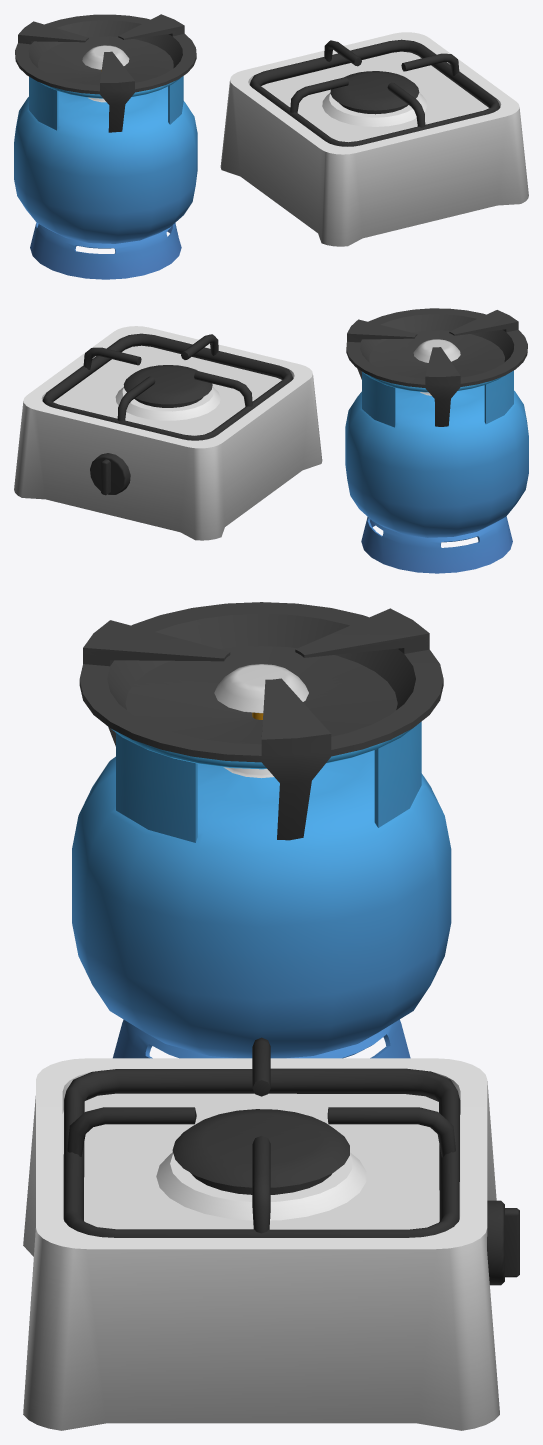
The model's file is stove.fbx.
3 views of the same model, one above another, from view 1: azimuth 30°, elevation 25°; view 2: azimuth 150°, elevation 25°; view 3: azimuth 270°, elevation 25° (orthographic). The views are drawn at different scales.
Visible parts, largest first — view 1: stove, gas, set, grid, fire; view 2: stove, gas, set, grid, switch, fire; view 3: stove, gas, set, grid, fire, switch.
Boxes of the visible parts, x1,y1,x2,y2 form: stove: [220, 32, 528, 246]; gas: [14, 76, 197, 279]; set: [15, 14, 196, 132]; grid: [250, 39, 500, 146]; fire: [82, 45, 129, 71]; stove: [14, 326, 322, 540]; gas: [345, 370, 528, 573]; set: [346, 308, 527, 426]; grid: [42, 333, 293, 440]; switch: [90, 453, 130, 495]; fire: [413, 339, 460, 362]; stove: [23, 1058, 499, 1430]; gas: [72, 721, 451, 1058]; set: [79, 602, 443, 840]; grid: [63, 1037, 460, 1237]; fire: [214, 664, 308, 719]; switch: [487, 1200, 519, 1285].
Bounding box in the file's own units: 5.38 × 2.56 × 2.32.
